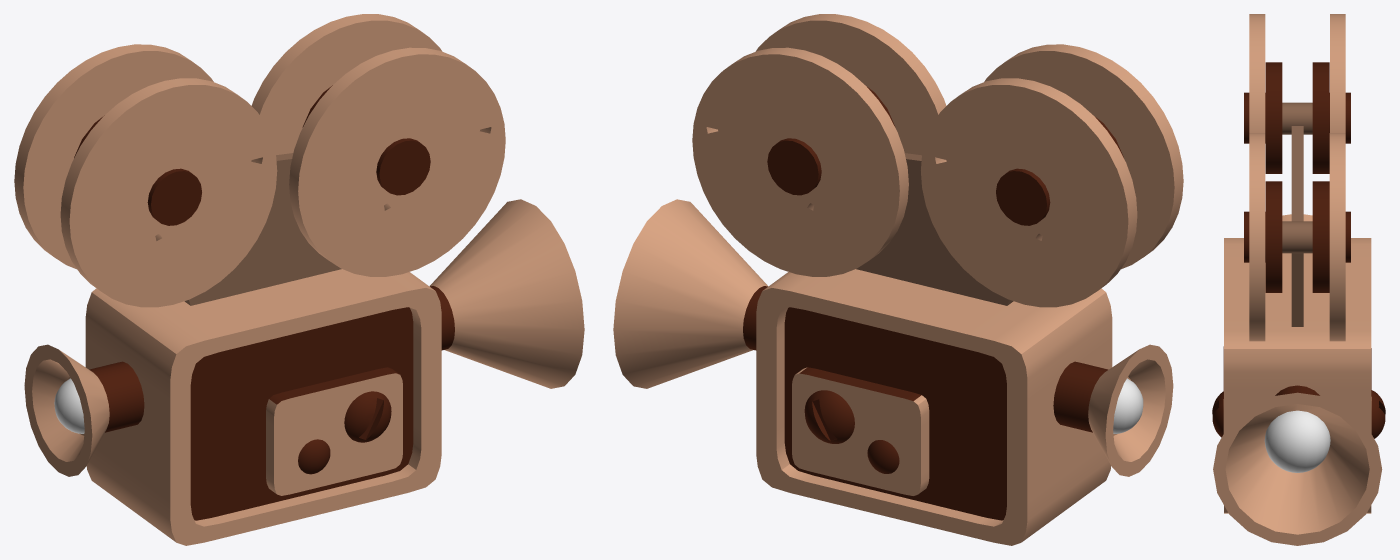
File: MEDIA.fbx
The picture shows the model from 3 angles, left to right: view 1: azimuth 30°, elevation 25°; view 2: azimuth 150°, elevation 25°; view 3: azimuth 270°, elevation 25°; orthographic projection. The views are drawn at different scales.
Visible parts, largest first — view 1: MEDIA; view 2: MEDIA; view 3: MEDIA.
Boxes of the visible parts, <box> form: MEDIA: <box>14,14,584,545</box>; MEDIA: <box>613,14,1183,545</box>; MEDIA: <box>1212,14,1385,545</box>.
Bounding box in the file's own units: 7.66 × 6.64 × 2.68.
